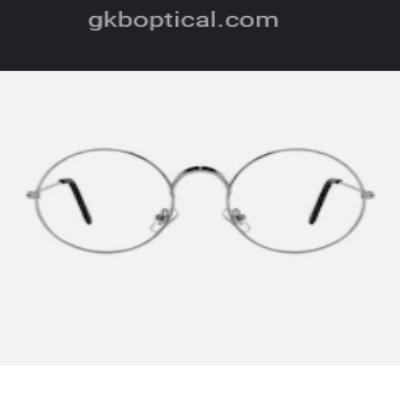glasses: (24, 142, 381, 270)
